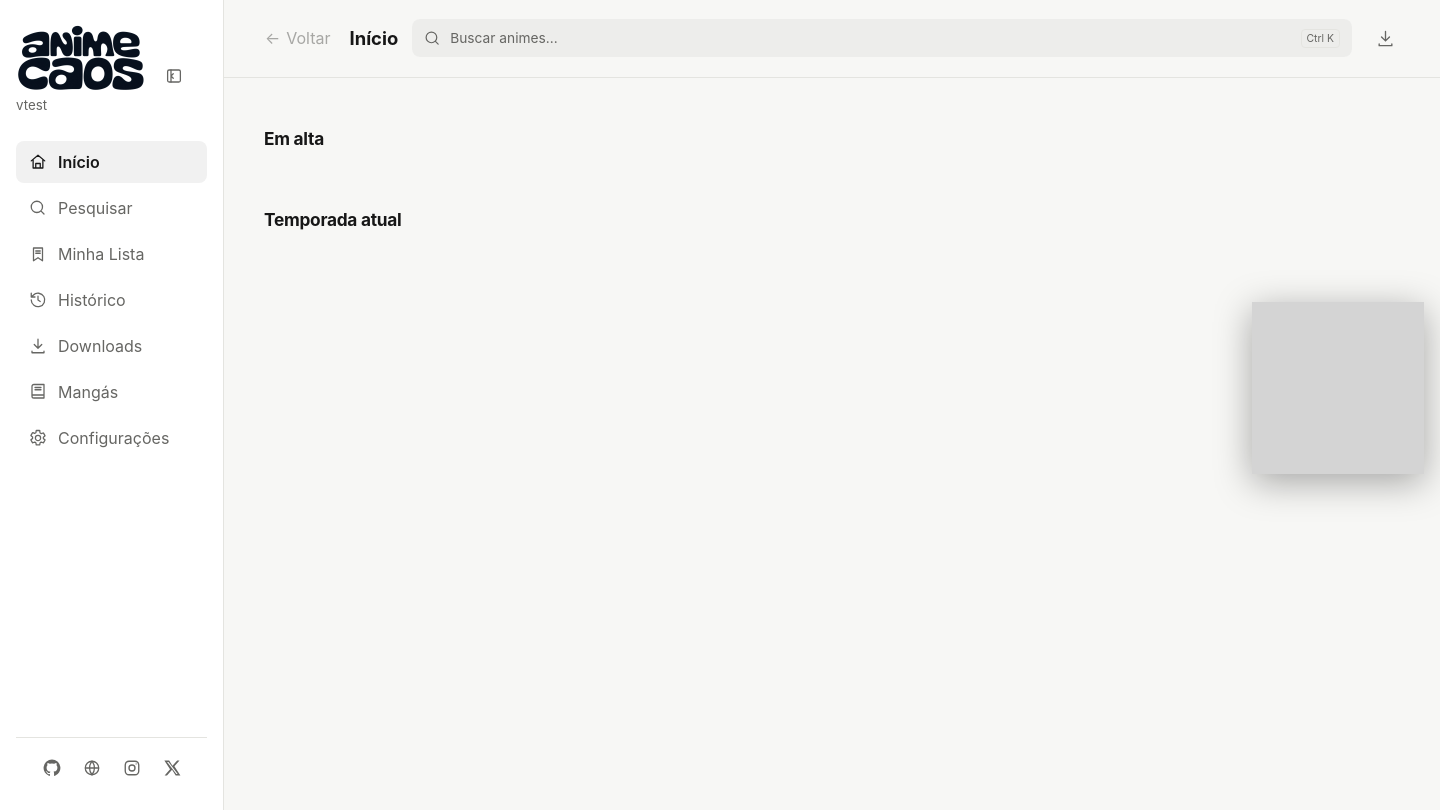
Test: interface funcional › mantém o painel fechado enquanto o download avança
Click the button titled "Downloads": [1385, 38] box [1366,19,1404,57]
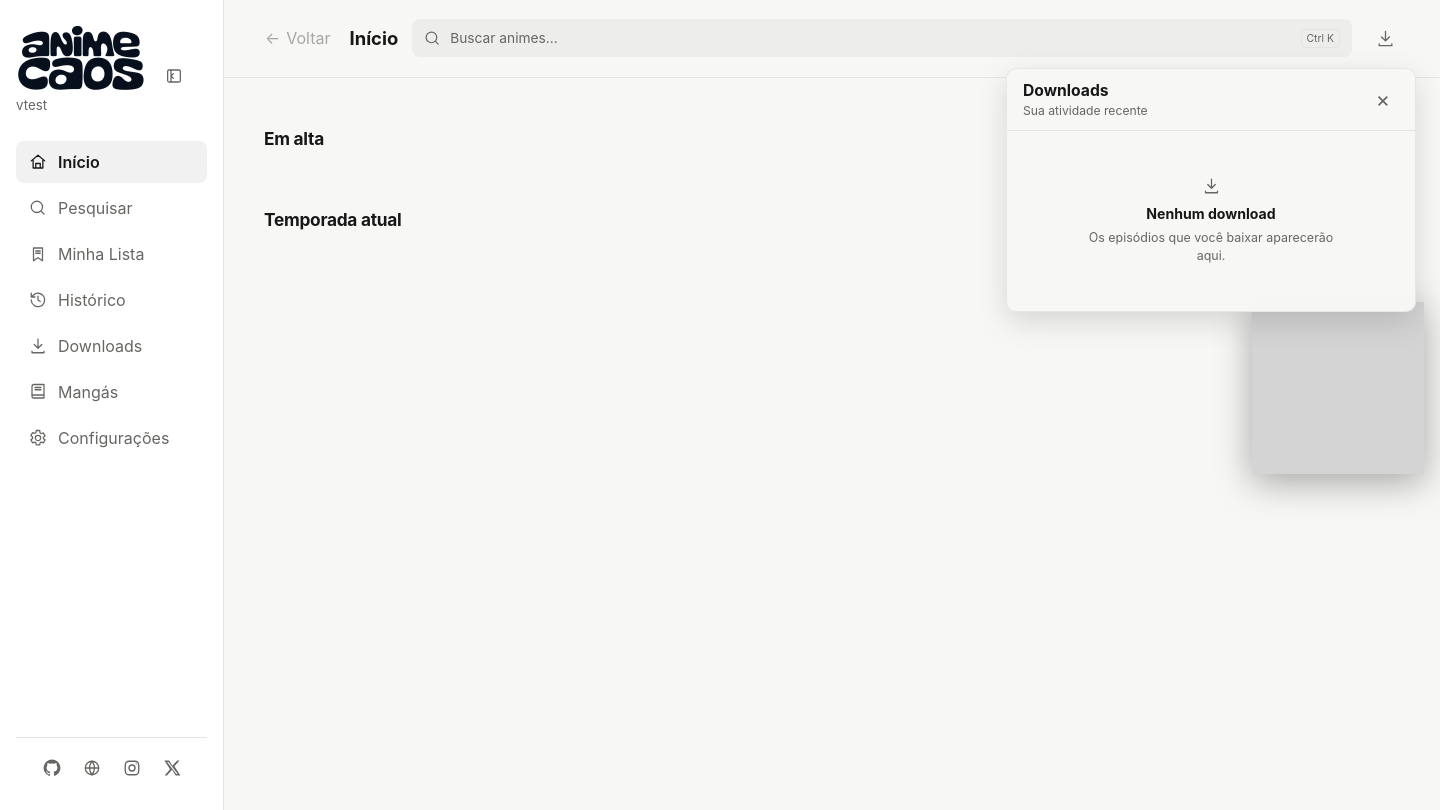
Click the button named "Fechar downloads": [1383, 100] box [1367,84,1399,116]
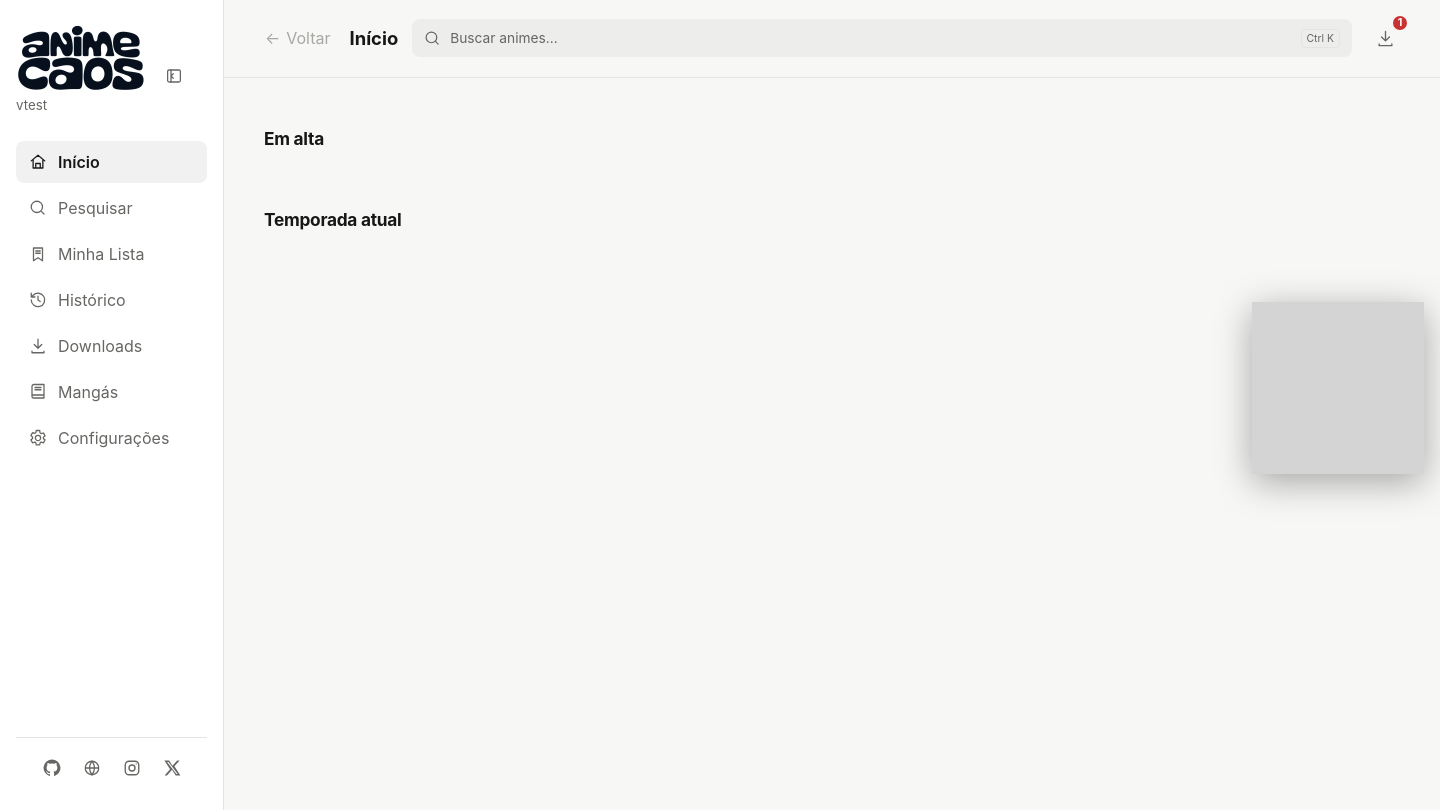
Result: the button named "Downloads, 1 ativos" is shown at [1366,19,1404,57]
Result: the button "×" is gone
